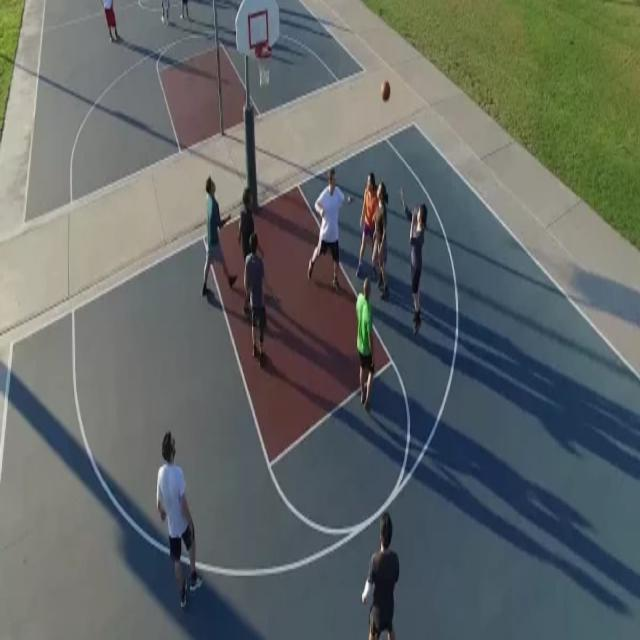humans: (156, 428, 205, 616), (358, 502, 402, 640), (306, 163, 350, 293), (202, 175, 238, 306), (242, 228, 269, 368), (404, 184, 428, 337), (354, 274, 379, 413), (375, 177, 390, 295), (361, 166, 376, 278), (240, 183, 256, 250)
